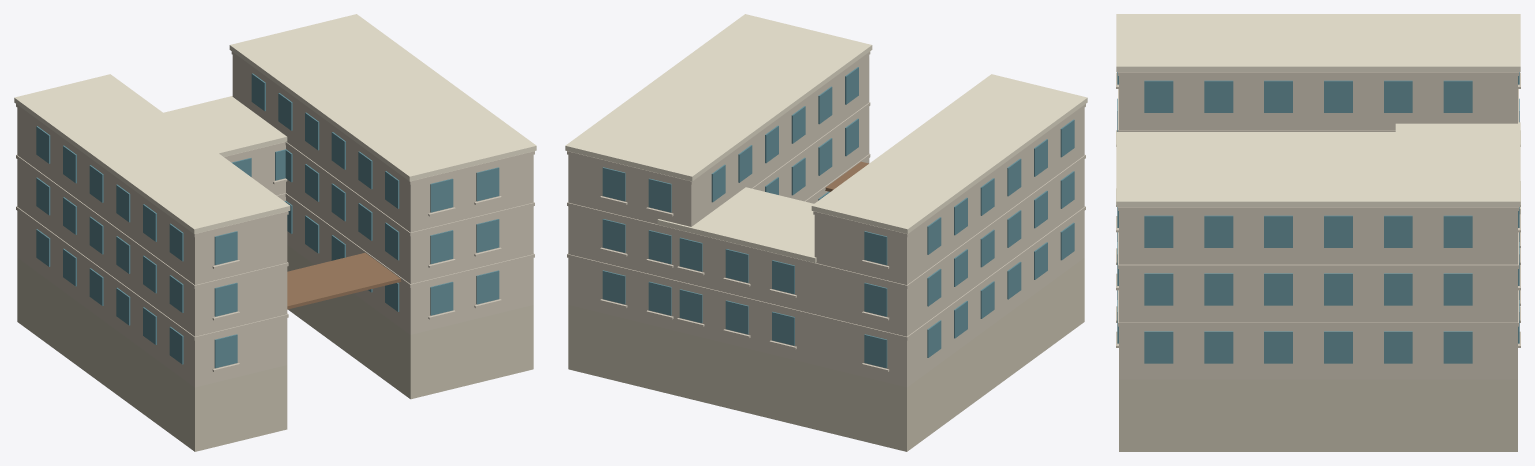
Rendered from courtyard-block-3.glb.
The picture shows the model from 3 angles, left to right: view 1: azimuth 30°, elevation 25°; view 2: azimuth 150°, elevation 25°; view 3: azimuth 270°, elevation 25°; orthographic projection. The views are drawn at different scales.
Size of the model in its own units: 22.25 by 13.9 by 20.28.
